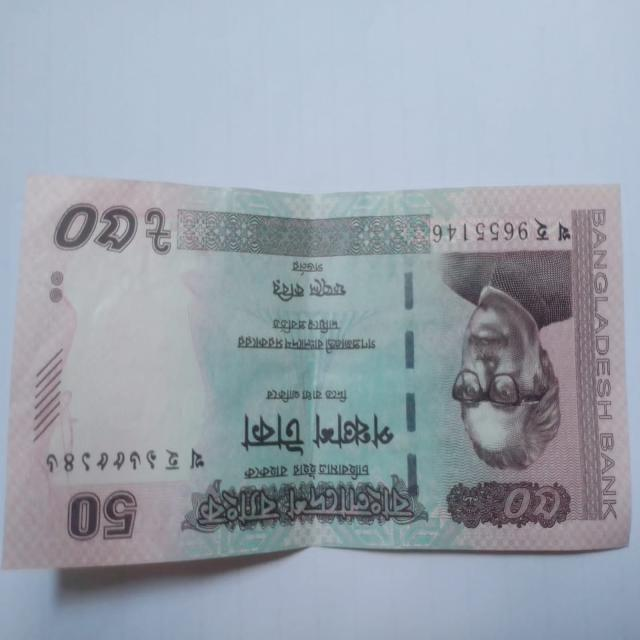Taka: (10, 155, 629, 562)
